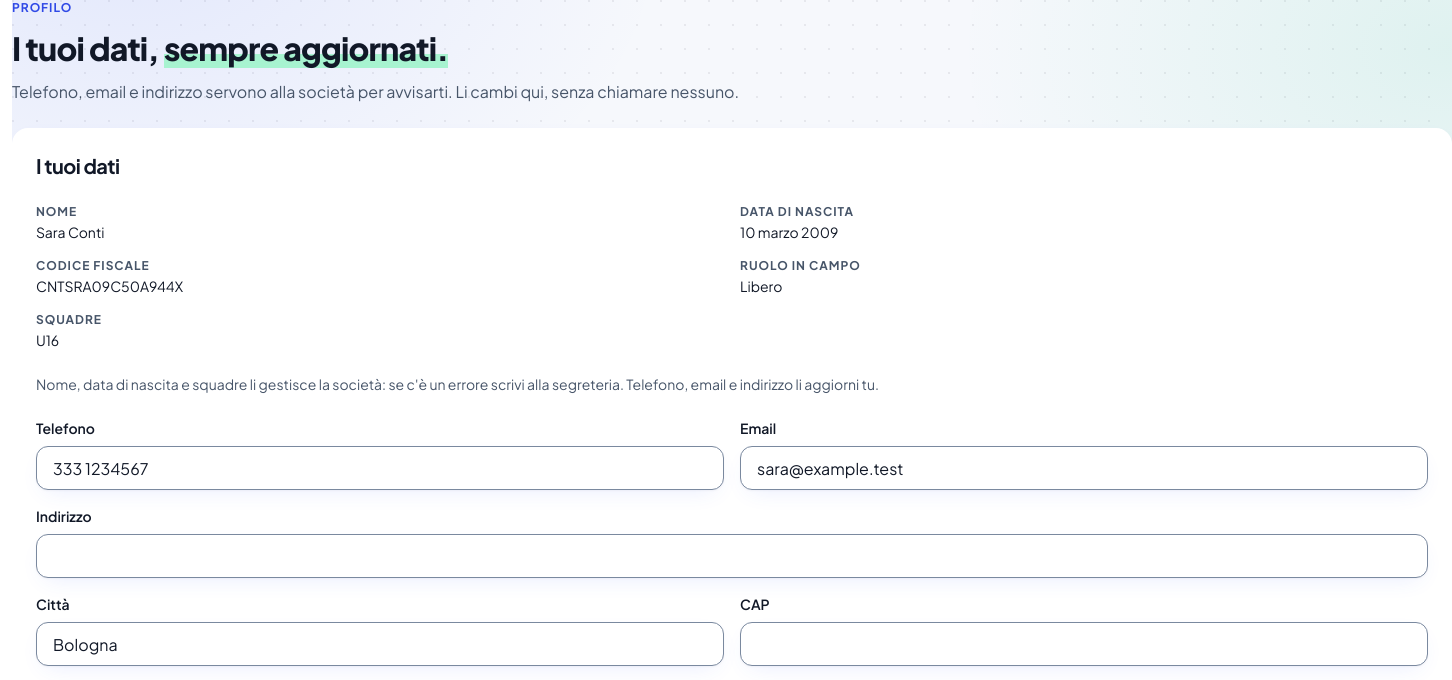
PersonalProfile › shows why the save failed
The width and height of the screenshot is (1452, 680).
Type "40100" into the field labelled "CAP".
click(1084, 644); type("40100")  # box left=740, top=622, right=1428, bottom=666
(page scrolled)
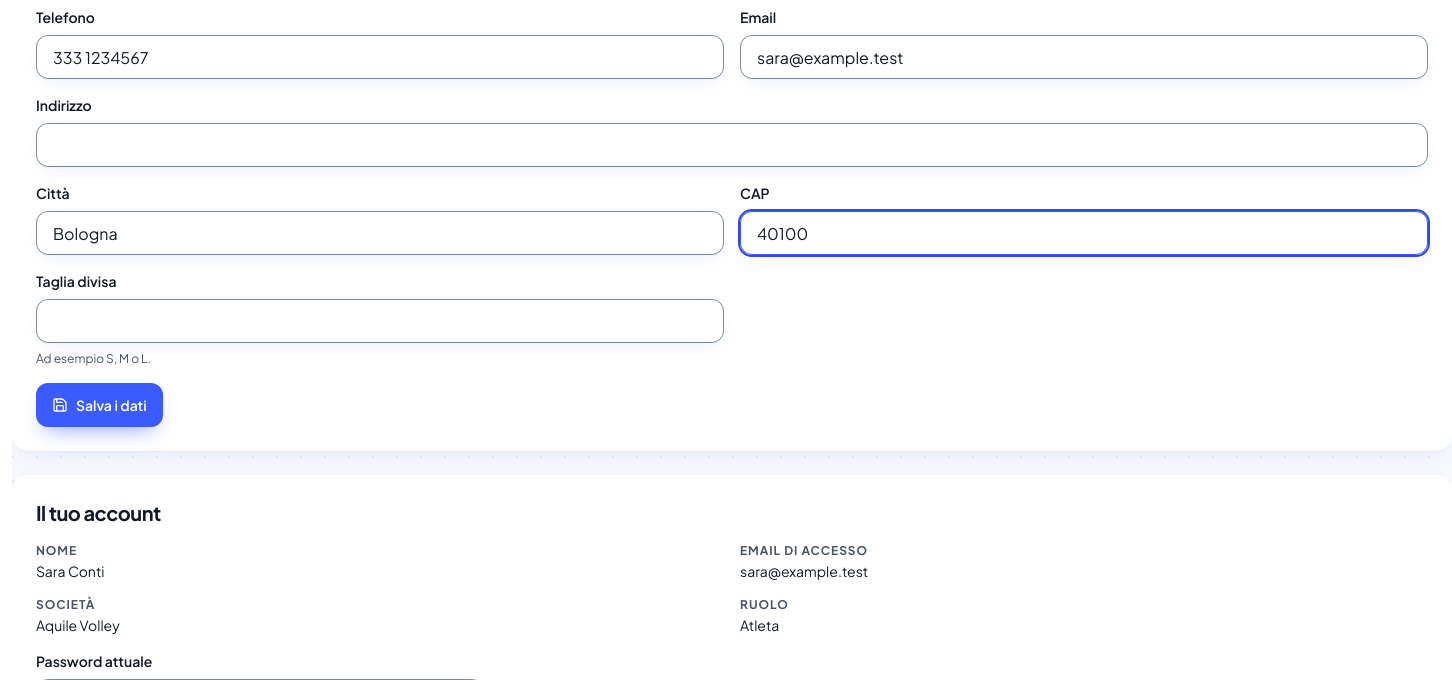
Click the button "Salva i dati".
click(99, 405)  # box left=36, top=383, right=163, bottom=427
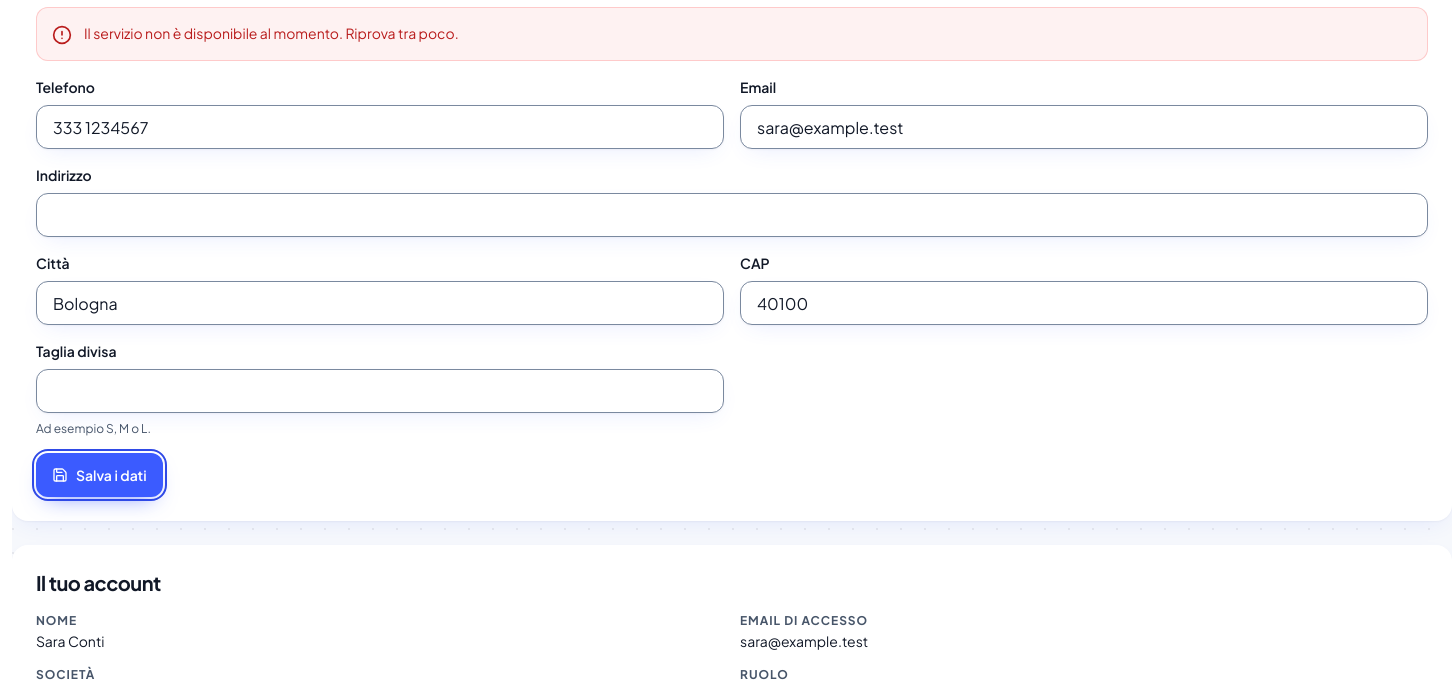
Check: the text "Il servizio non è disponibile al momento. Riprova tra poco." is shown, box left=84, top=23, right=459, bottom=43
